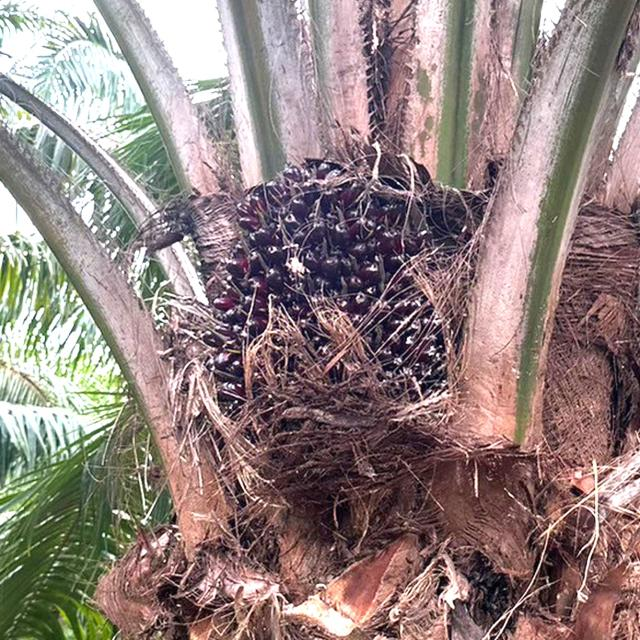ripe: (206, 148, 453, 393)
